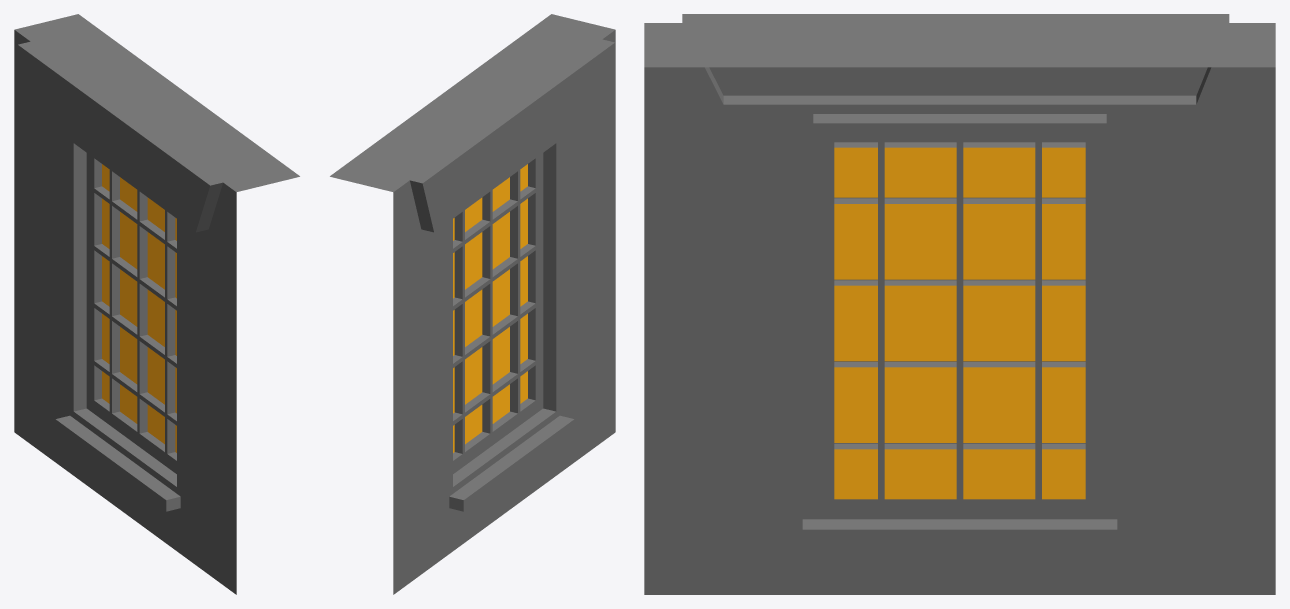
The model's file is O_Facade_Fenetre_Fronton_Simple 1.fbx.
The picture shows the model from 3 angles, left to right: view 1: azimuth 30°, elevation 25°; view 2: azimuth 150°, elevation 25°; view 3: azimuth 270°, elevation 25°; orthographic projection. The views are drawn at different scales.
Parts seen in each view (by area): view 1: O_Facade_Fenetre_Fronton_Simple; view 2: O_Facade_Fenetre_Fronton_Simple; view 3: O_Facade_Fenetre_Fronton_Simple.
Boxes of the visible parts, bbox=[...] form: O_Facade_Fenetre_Fronton_Simple: bbox=[14, 14, 299, 594]; O_Facade_Fenetre_Fronton_Simple: bbox=[330, 14, 615, 594]; O_Facade_Fenetre_Fronton_Simple: bbox=[644, 14, 1275, 594].
Bounding box in the file's own units: 0.6138 × 3 × 3.
